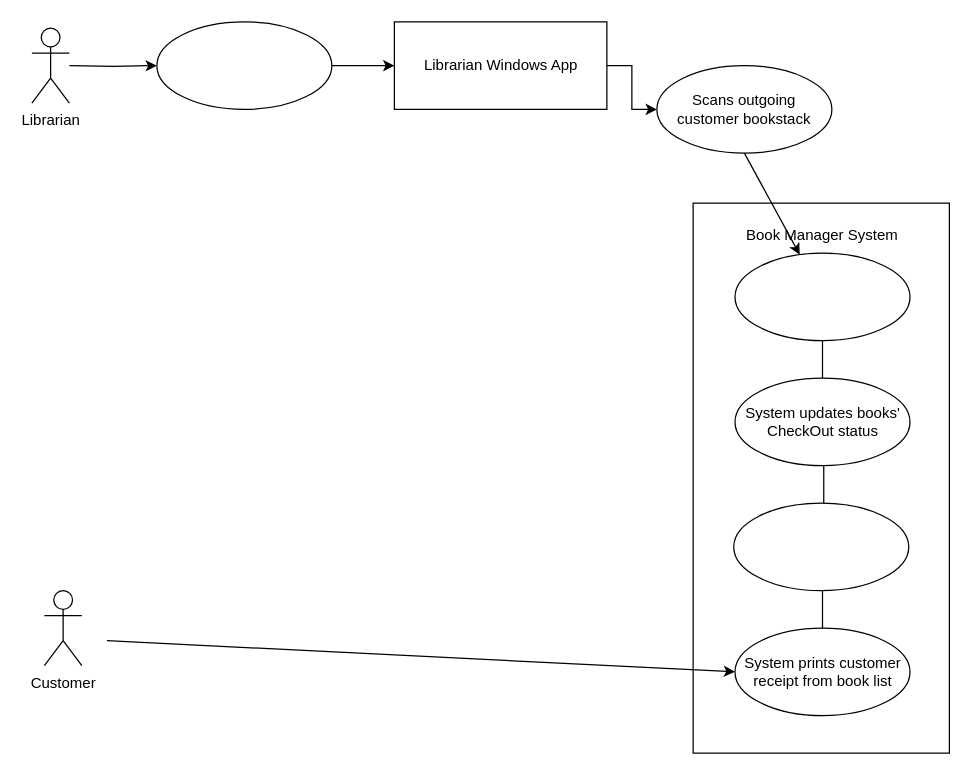
Some shapes in this 971 by 775 pixel diagram are drawn without their labels. Here are the shapes that lost their labels. From the top down, the centre of each, then its label:
At pixel 244 65: "User Login".
At pixel 822 296: "System records outgoing books".
At pixel 820 546: "System records books' DueDate status".
